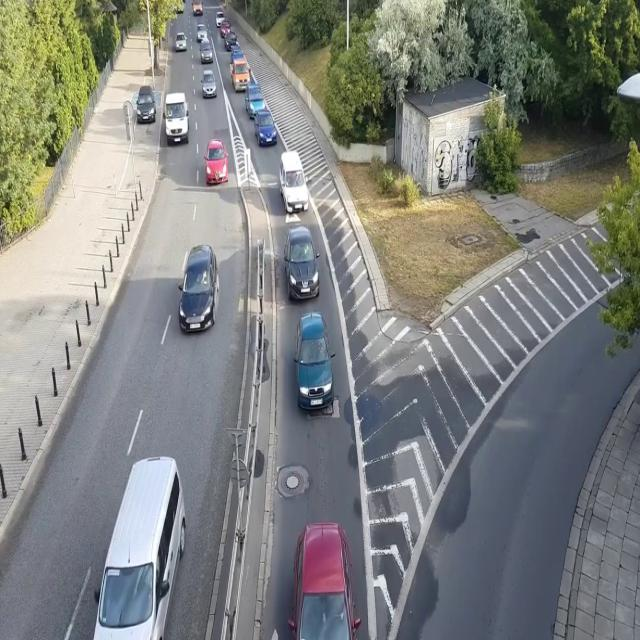car: (284, 521, 362, 640), (176, 240, 220, 338), (294, 312, 336, 413), (283, 224, 321, 303), (202, 138, 230, 185), (135, 83, 157, 123), (243, 82, 266, 120), (255, 110, 278, 147), (200, 70, 218, 100), (200, 40, 214, 64), (175, 32, 188, 54), (195, 22, 208, 43), (223, 32, 238, 50), (230, 45, 243, 63), (215, 10, 225, 27), (220, 22, 230, 35)
truck: (229, 58, 252, 94)
van: (87, 455, 187, 640), (278, 151, 310, 214), (163, 92, 190, 145), (190, 0, 203, 17)
